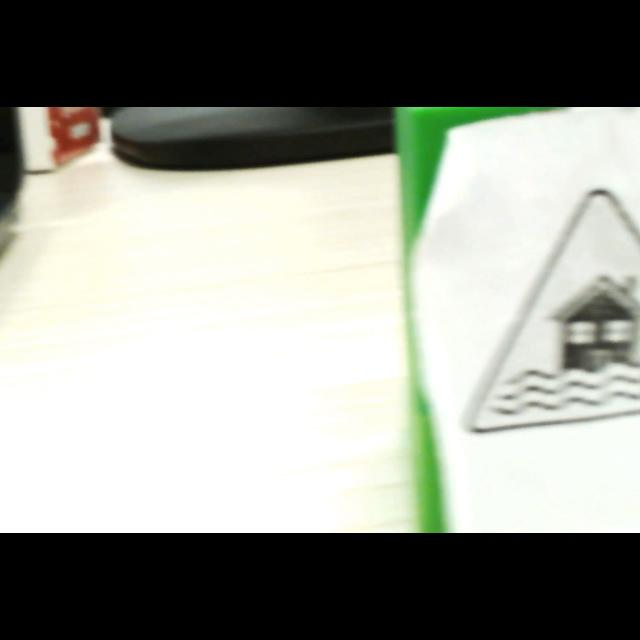Tsunami: (465, 189, 640, 433)
